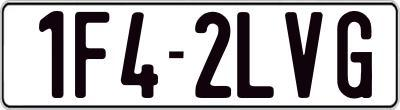1: (39, 10, 68, 103)
2: (193, 10, 233, 102)
4: (121, 10, 162, 102)
F: (75, 12, 115, 100)
G: (335, 8, 375, 100)
L: (235, 12, 272, 100)
V: (282, 11, 322, 99)
